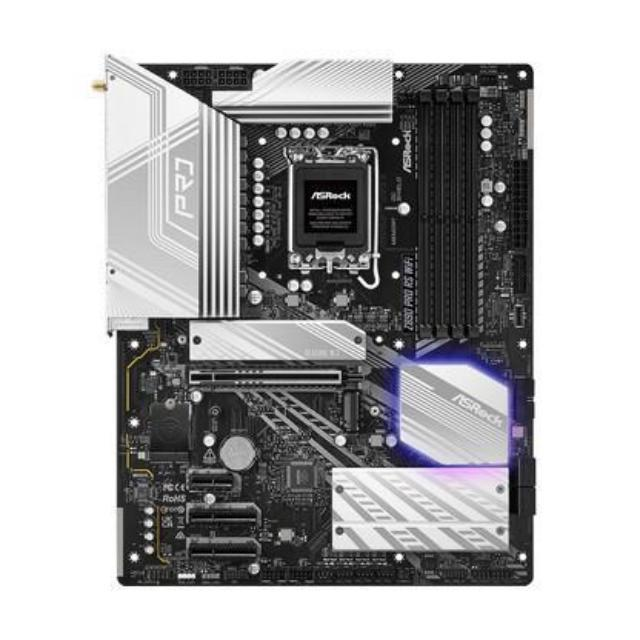Mainboard: (85, 49, 540, 597)
